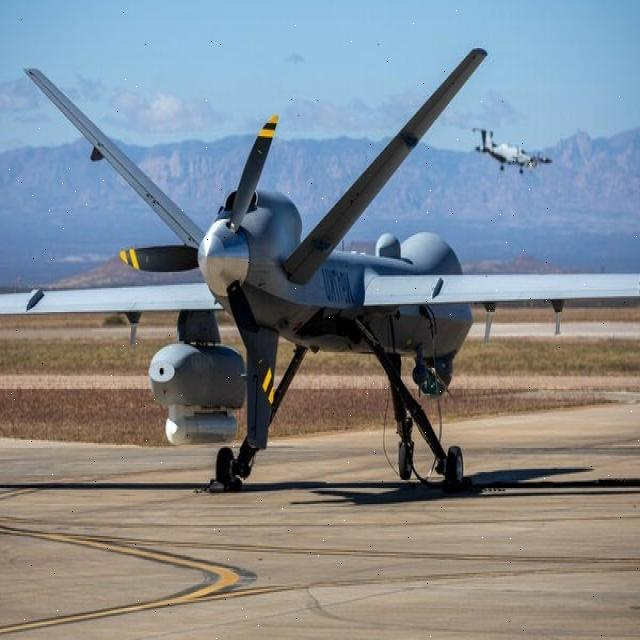MQ9: (0, 27, 630, 523)
